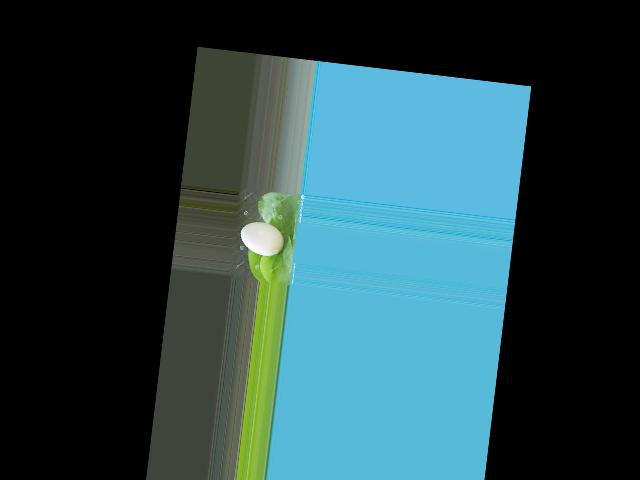egg: (238, 220, 285, 258)
